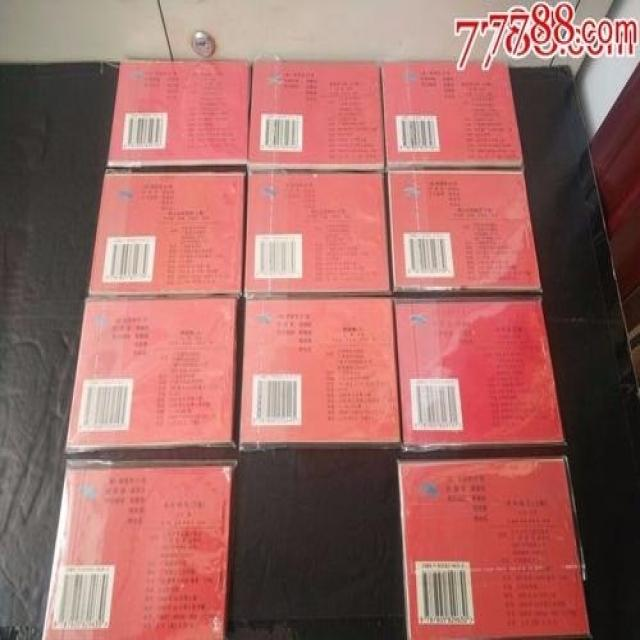box: (397, 456, 590, 638), (41, 461, 234, 638), (63, 297, 243, 461), (394, 300, 564, 458), (237, 299, 401, 456), (387, 169, 540, 297), (243, 173, 393, 301), (90, 172, 242, 298), (107, 57, 251, 168), (246, 60, 386, 174), (380, 59, 524, 167)
